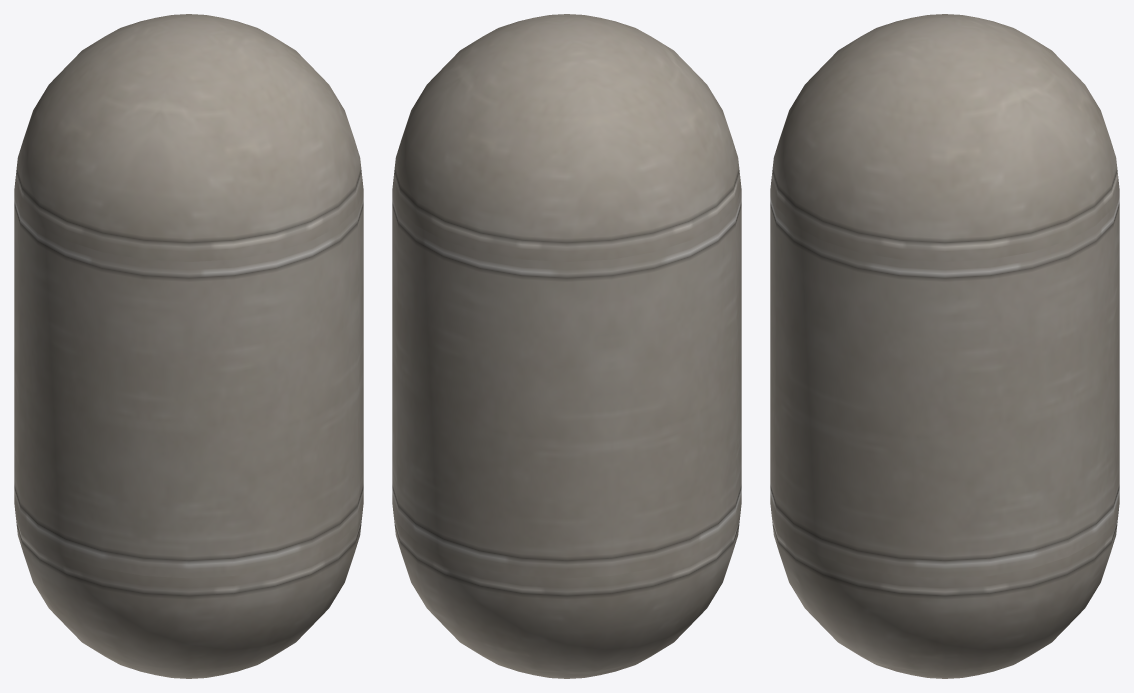
File: 1f_fuel_tank_srf_2.obj
The picture shows the model from 3 angles, left to right: view 1: azimuth 30°, elevation 25°; view 2: azimuth 150°, elevation 25°; view 3: azimuth 270°, elevation 25°; orthographic projection.
Parts seen in each view (by area): view 1: mesh1; view 2: mesh1; view 3: mesh1.
Boxes of the visible parts, x1,y1,x2,y2 form: mesh1: [14, 14, 363, 678]; mesh1: [392, 14, 741, 678]; mesh1: [770, 14, 1119, 678].
Size of the model in its own units: 0.375 by 0.75 by 0.375.
1 material, 1 textured.
